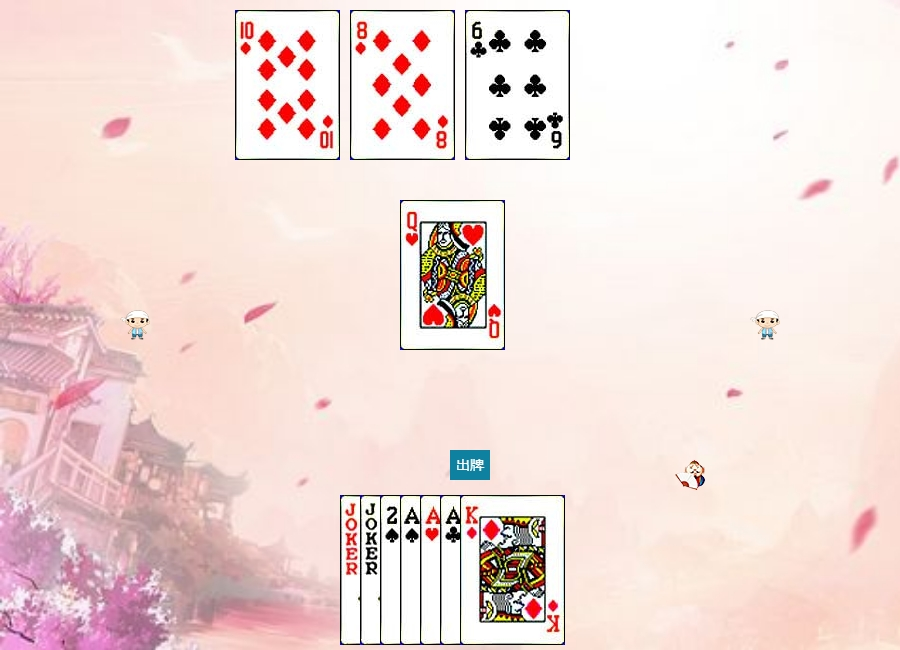10~1: (235, 10, 340, 160)
12~3: (400, 200, 505, 350)
13~1: (460, 495, 565, 645)
14~2: (440, 495, 545, 645)
14~3: (420, 495, 525, 645)
14~4: (400, 495, 505, 645)
15~4: (380, 495, 485, 645)
17~3: (360, 495, 465, 645)
18~4: (340, 495, 445, 645)
6~2: (465, 10, 570, 160)
8~1: (350, 10, 455, 160)
